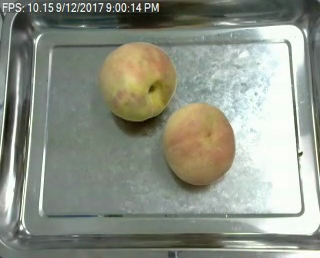Peach: (99, 40, 177, 122), (164, 102, 236, 185)
